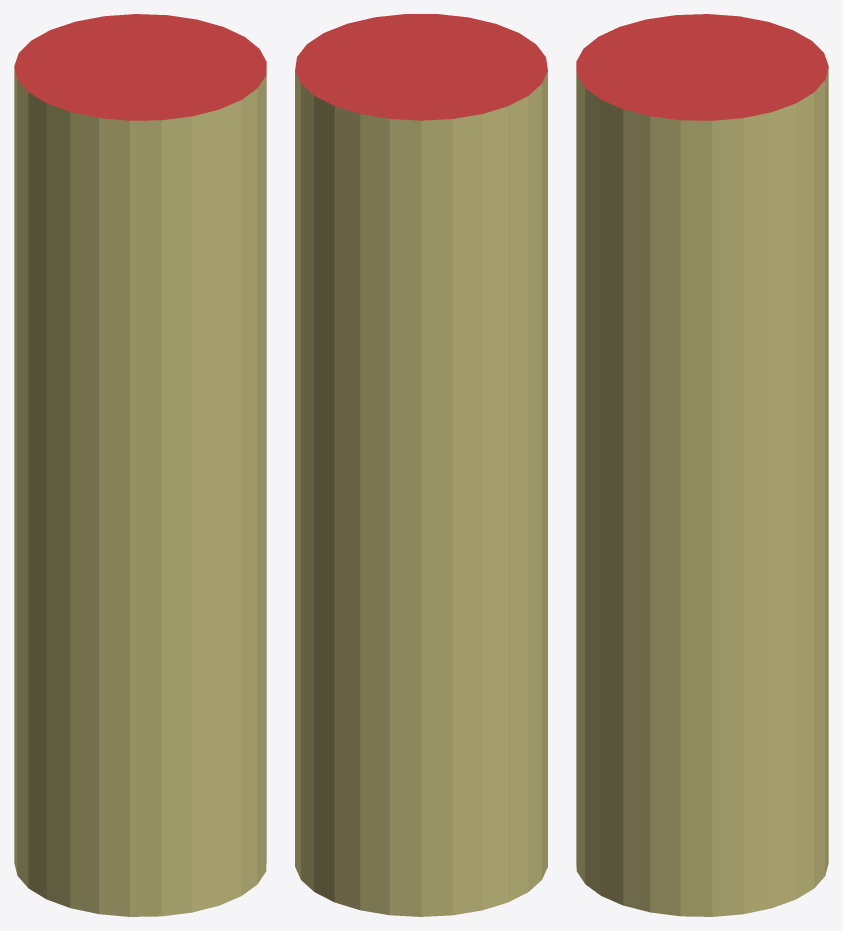
3 views of the same model, side by side, from view 1: azimuth 30°, elevation 25°; view 2: azimuth 150°, elevation 25°; view 3: azimuth 270°, elevation 25° (orthographic).
Size of the model in its own units: 1.96 by 1.96 by 6.81.
